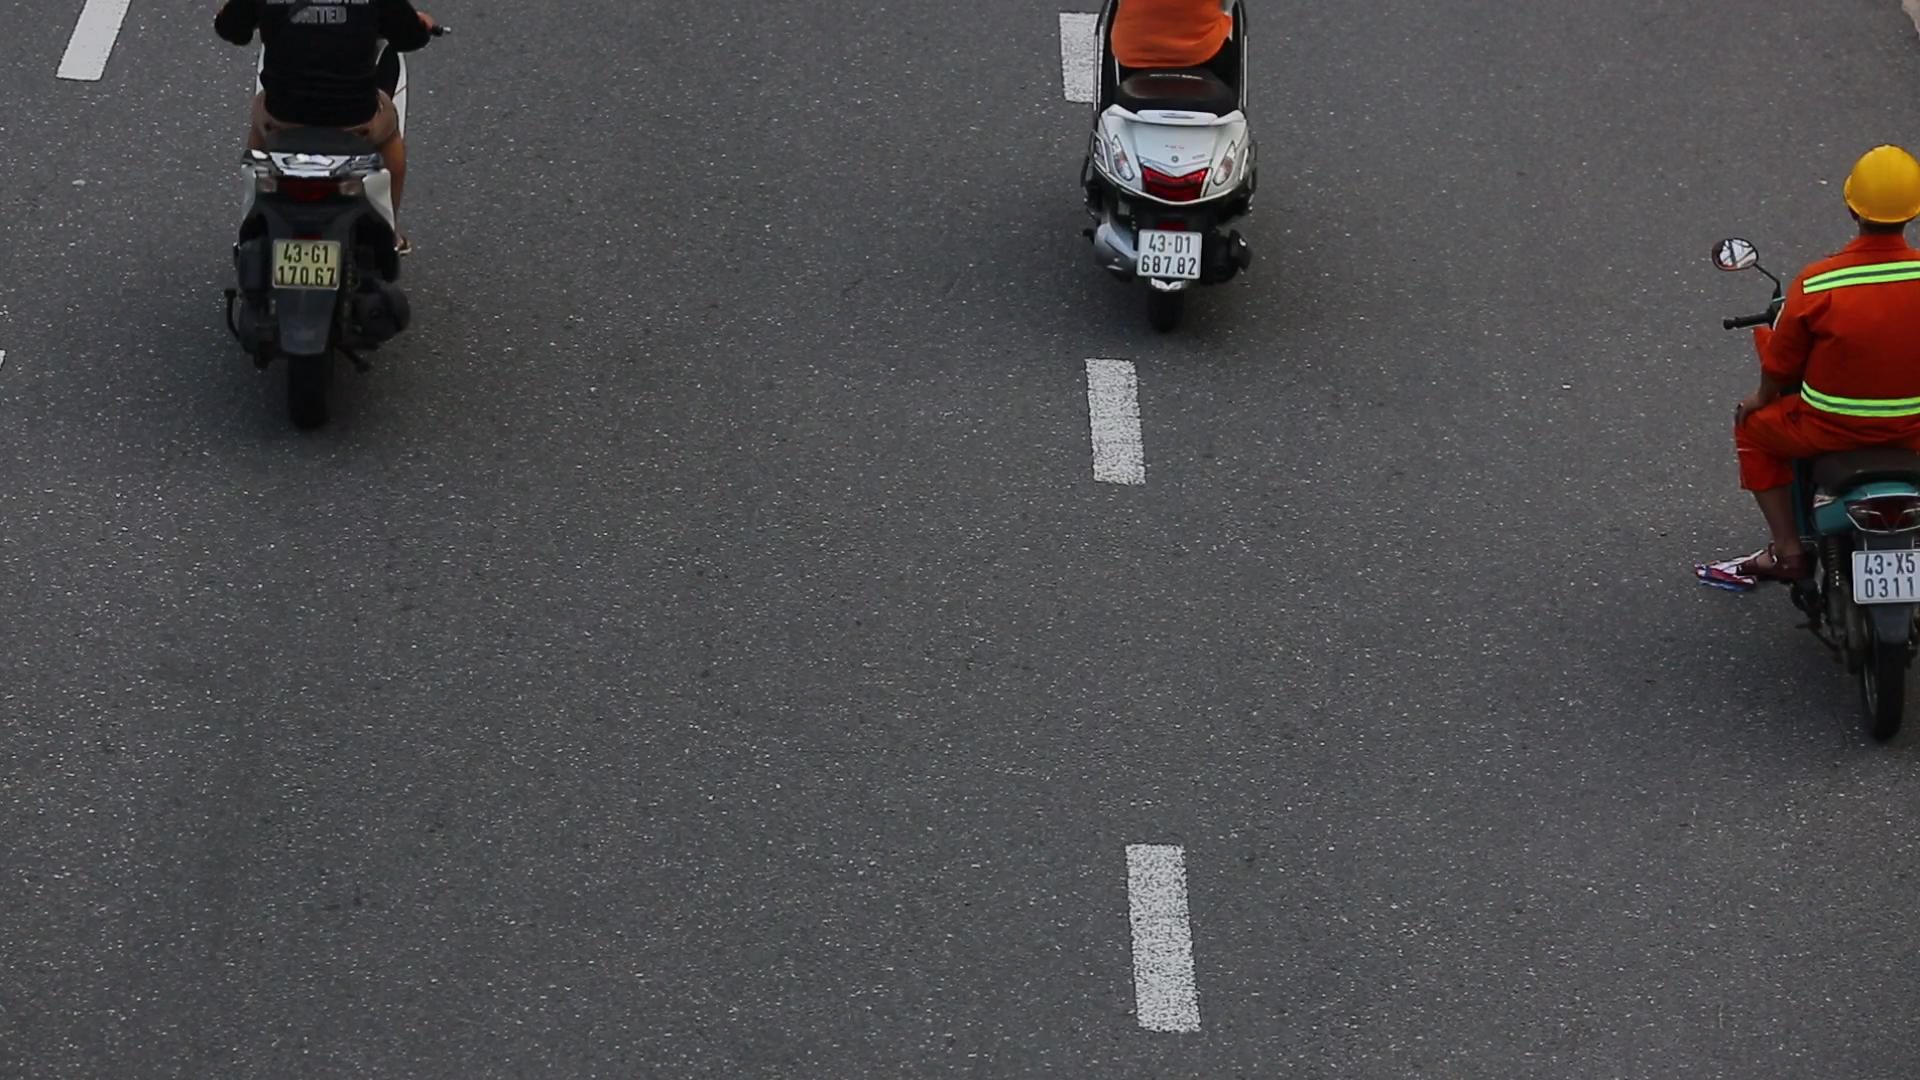motobike: (1720, 142, 1920, 782)
